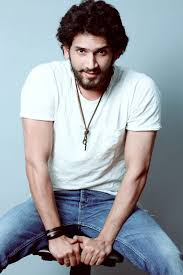Indian_Male: (66, 35, 114, 86)
